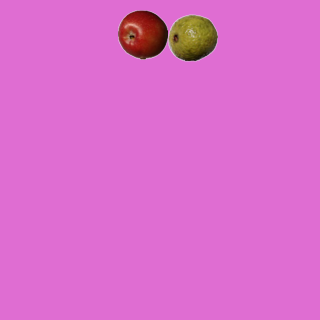Apple Braeburn: (117, 9, 167, 59)
Guava: (167, 12, 217, 62)
